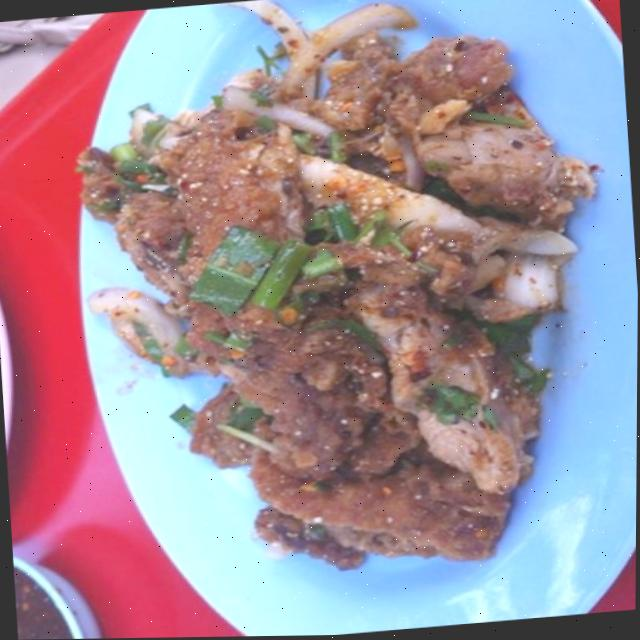鸡肉料理 含炸鸡: (40, 0, 640, 599)
